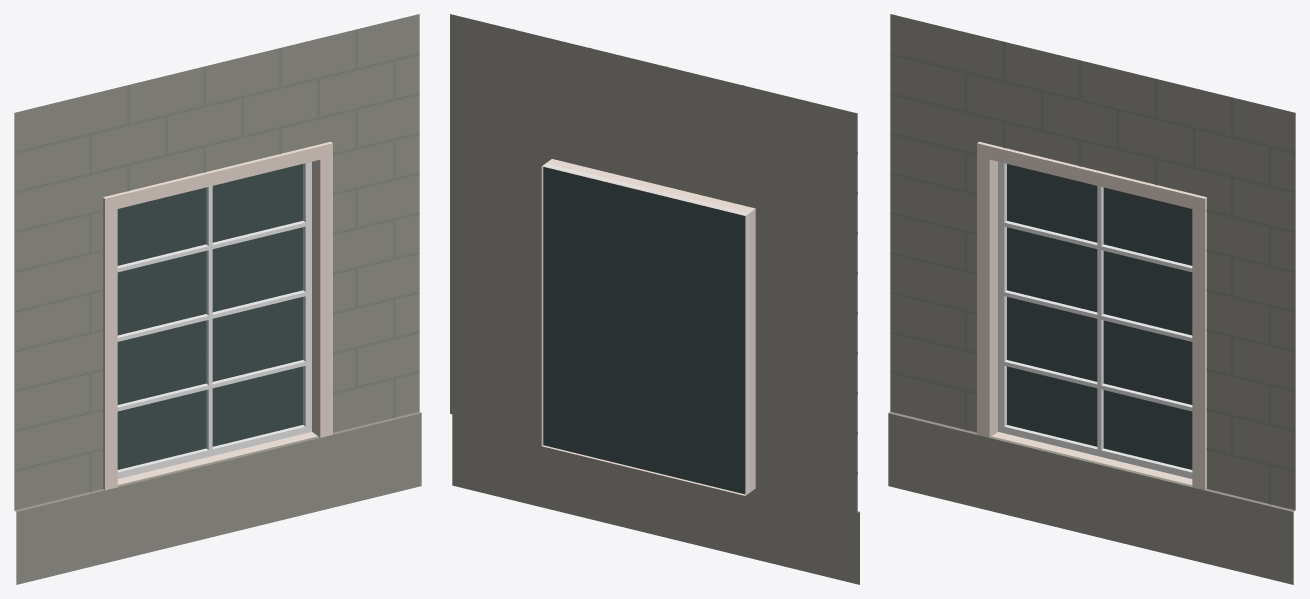
Rendered from base-w3_close.fbx.
The picture shows the model from 3 angles, left to right: view 1: azimuth 30°, elevation 25°; view 2: azimuth 150°, elevation 25°; view 3: azimuth 330°, elevation 25°; orthographic projection.
Parts seen in each view (by area): view 1: a2000s3/400/base-w3_close; view 2: a2000s3/400/base-w3_close; view 3: a2000s3/400/base-w3_close.
Boxes of the visible parts, bbox=[...] form: a2000s3/400/base-w3_close: bbox=[14, 14, 421, 584]; a2000s3/400/base-w3_close: bbox=[450, 14, 859, 584]; a2000s3/400/base-w3_close: bbox=[888, 14, 1295, 584].
Bounding box in the file's own units: 3.2 × 3.55 × 0.17.
